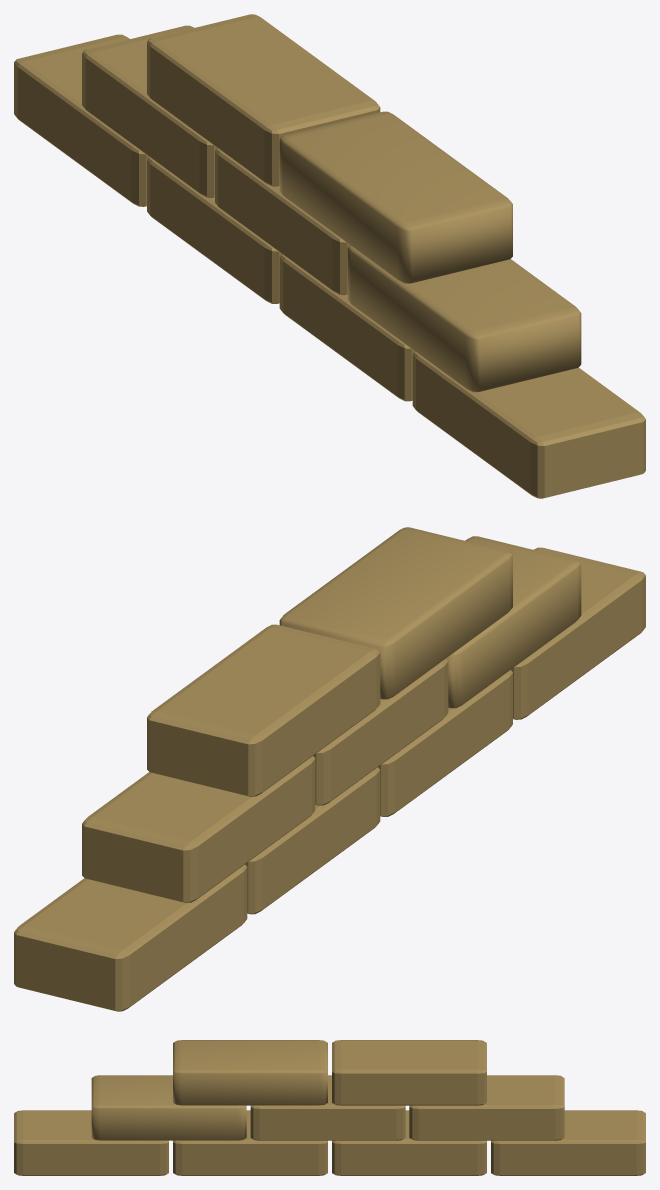
Rendered from SandBagWall.fbx.
The picture shows the model from 3 angles, top to bottom: view 1: azimuth 30°, elevation 25°; view 2: azimuth 150°, elevation 25°; view 3: azimuth 270°, elevation 25°; orthographic projection. The views are drawn at different scales.
Visible parts, largest first — view 1: Cube; view 2: Cube; view 3: Cube.
Boxes of the visible parts, x1,y1,x2,y2 form: Cube: (14, 14, 645, 498); Cube: (14, 527, 645, 1011); Cube: (14, 1040, 645, 1175).
Bounding box in the file's own units: 100 × 150 × 815.
